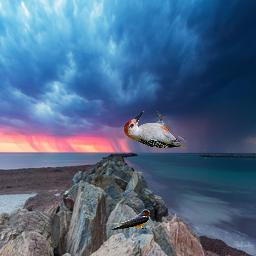Swallow: (102, 209, 150, 230)
Woodpecker: (124, 111, 186, 148)
